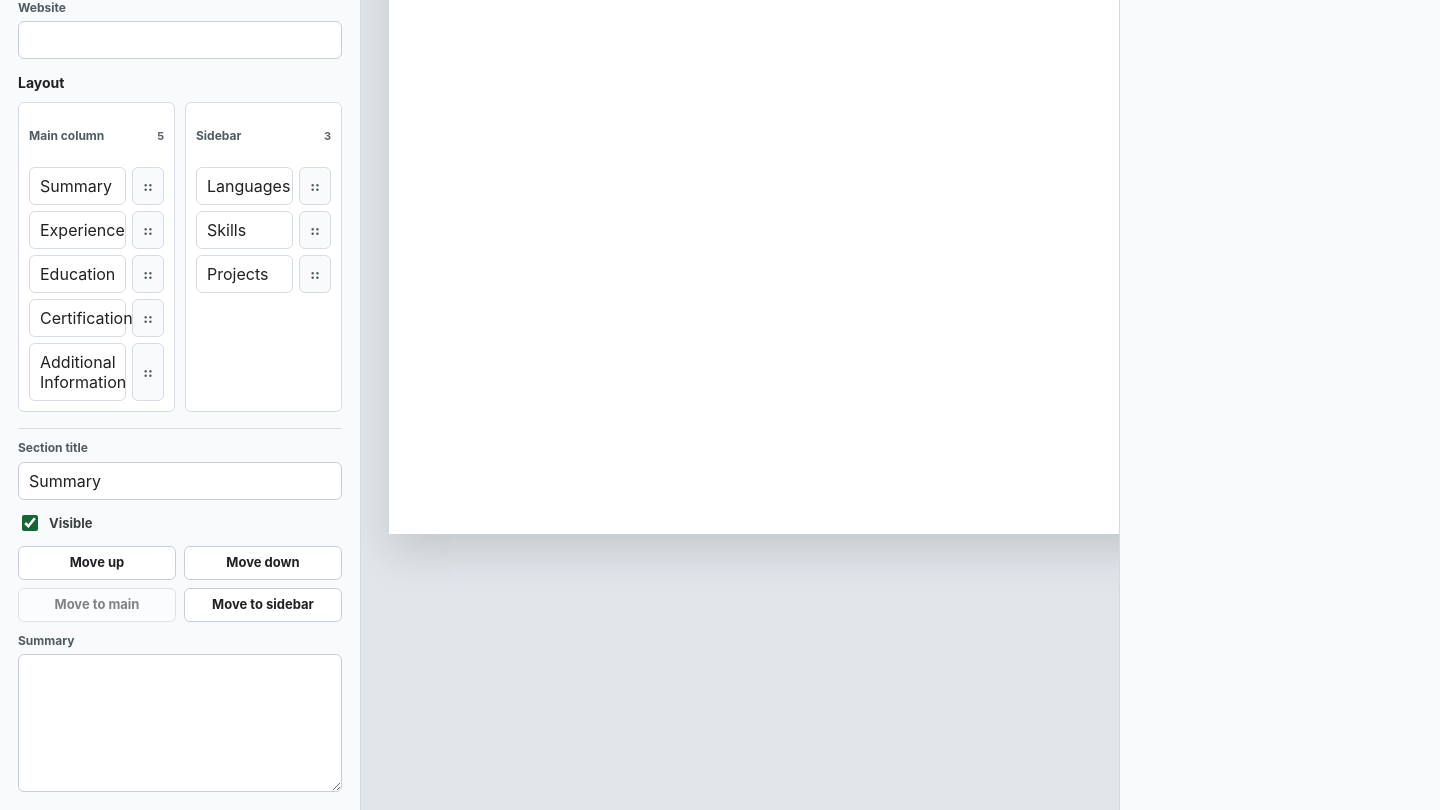
Test: content editors › edits summary content and hides the section without losing data
(page scrolled)
In the text box labelled "Summary": (180, 723) [18,654,342,792], type "Frontend engineer with product focus."
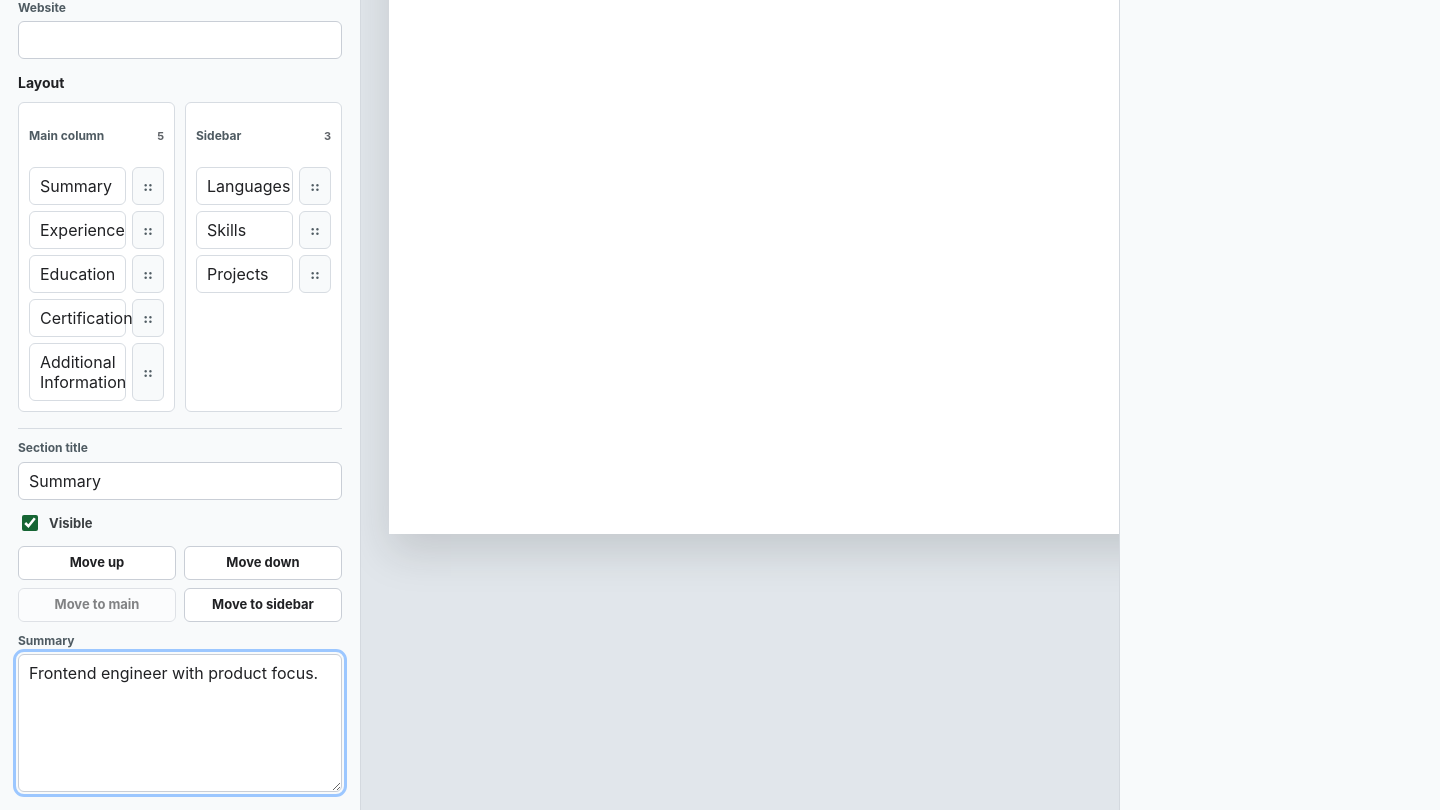
Click the checkbox labelled "Visible": (30, 523) [22,515,38,531]
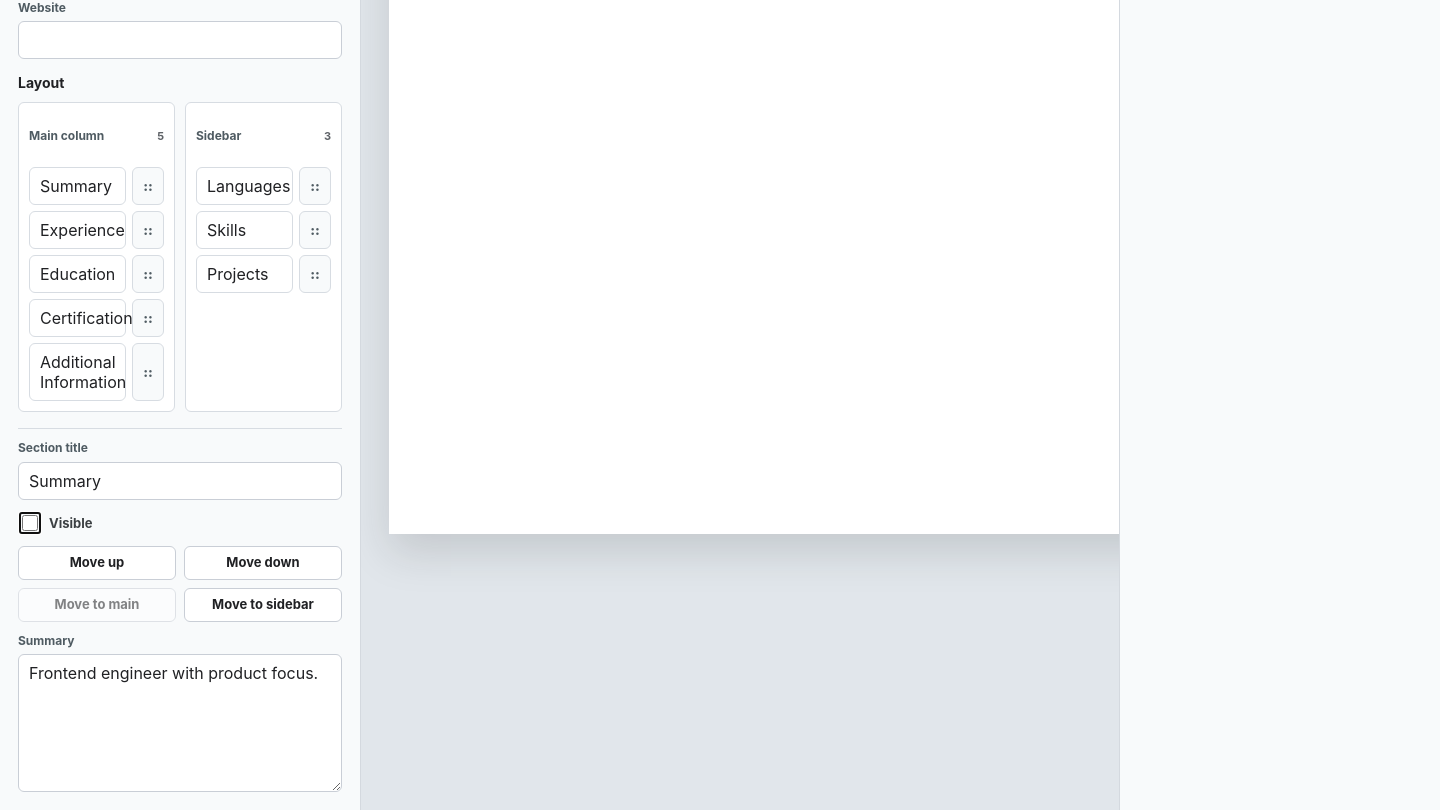
Click the checkbox labelled "Visible": (30, 523) [22,515,38,531]
(page scrolled)
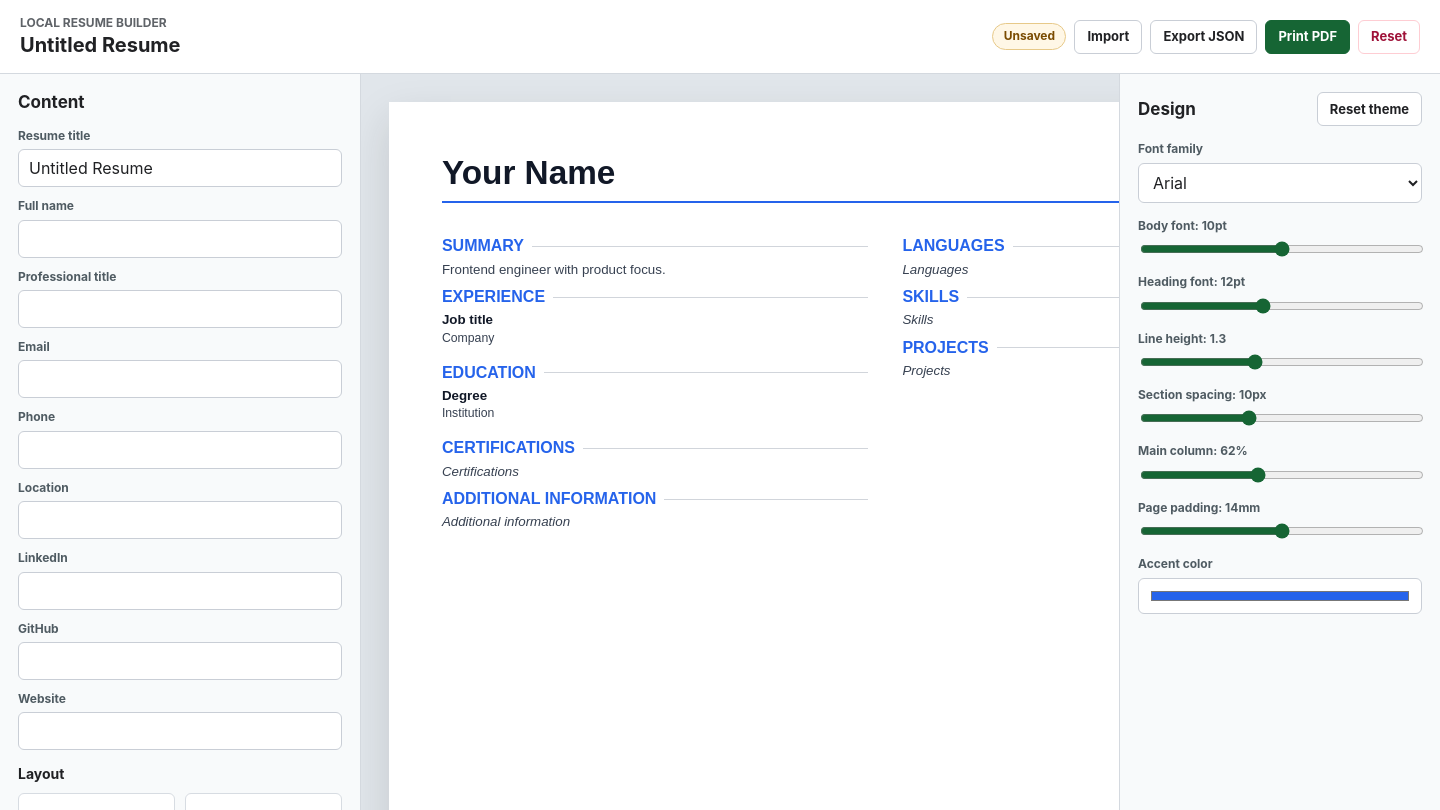
Check: the text "Frontend engineer with product focus." is shown, box [442,262,666,277]
